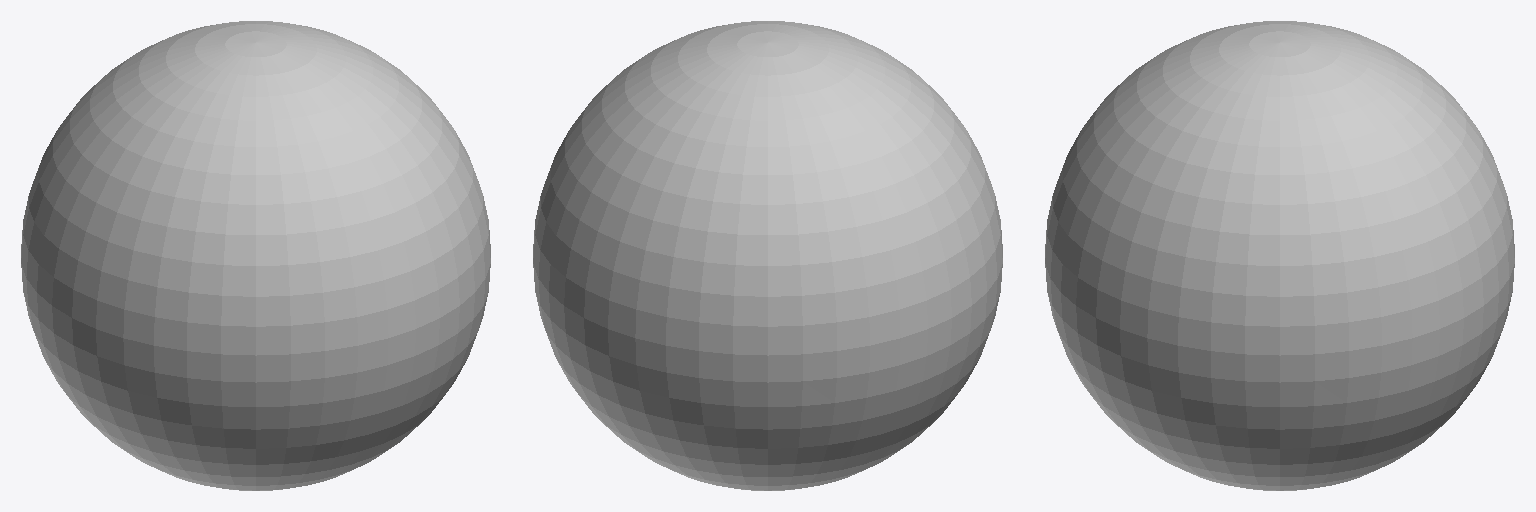
Rendered from perfectsphere.obj.
3 views of the same model, side by side, from view 1: azimuth 30°, elevation 25°; view 2: azimuth 150°, elevation 25°; view 3: azimuth 270°, elevation 25° (orthographic).
Parts seen in each view (by area): view 1: Sphere; view 2: Sphere; view 3: Sphere.
Boxes of the visible parts, x1,y1,x2,y2 form: Sphere: [21, 21, 490, 490]; Sphere: [533, 21, 1002, 490]; Sphere: [1045, 21, 1514, 490].
Size of the model in its own units: 1 by 1 by 0.9972.